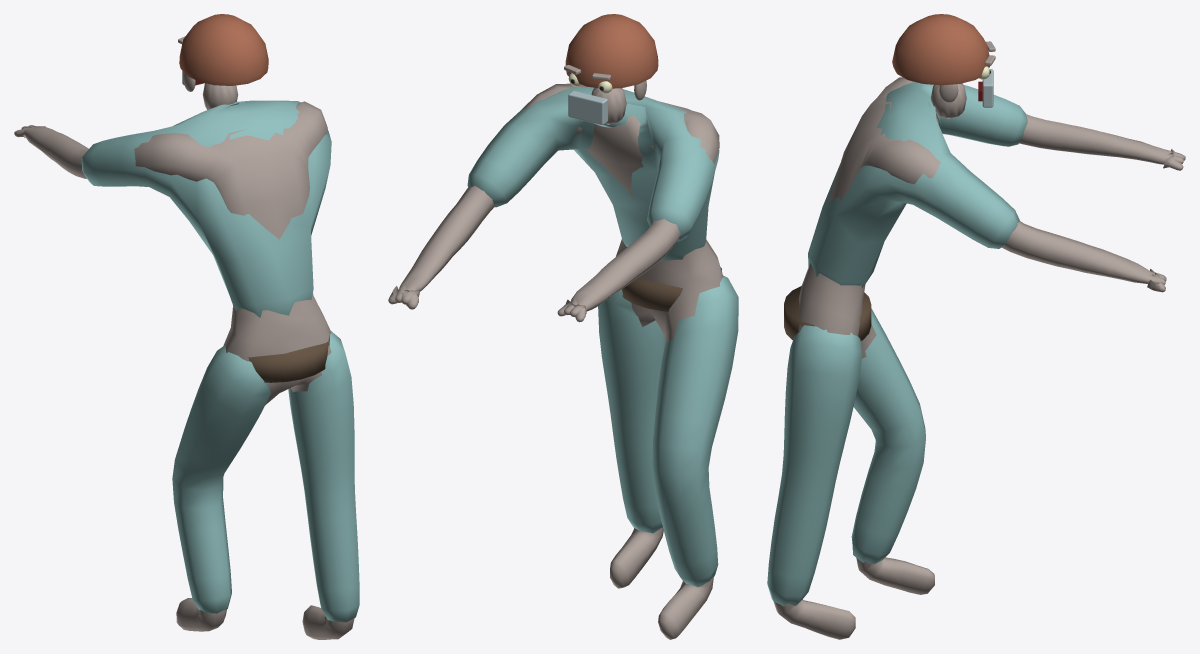
Rendered from zombie_nurse.glb.
3 renders of one model, left to right at view 1: azimuth 30°, elevation 25°; view 2: azimuth 150°, elevation 25°; view 3: azimuth 270°, elevation 25°, orthographic. The views are drawn at different scales.
Parts seen in each view (by area): view 1: pants, body, shirt, hair, belt, head; view 2: pants, body, shirt, hair, belt, mask, head; view 3: pants, body, shirt, hair, belt, head.
Boxes of the visible parts, x1,y1,x2,y2 form: pants: (172, 331, 359, 622); body: (14, 101, 354, 639); shirt: (81, 100, 331, 317); hair: (179, 14, 268, 85); belt: (247, 335, 329, 382); head: (183, 73, 238, 109); pants: (598, 275, 738, 587); body: (388, 83, 723, 639); shirt: (467, 87, 719, 261); hair: (565, 14, 658, 88); belt: (622, 267, 722, 311); mask: (568, 91, 607, 124); head: (591, 81, 646, 124); pants: (767, 308, 925, 606); body: (774, 77, 1185, 639); shirt: (808, 82, 1027, 288); hair: (892, 14, 989, 85); belt: (784, 286, 871, 340); head: (931, 83, 966, 118).
Size of the model in its own units: 0.6978 by 1.83 by 1.15.
